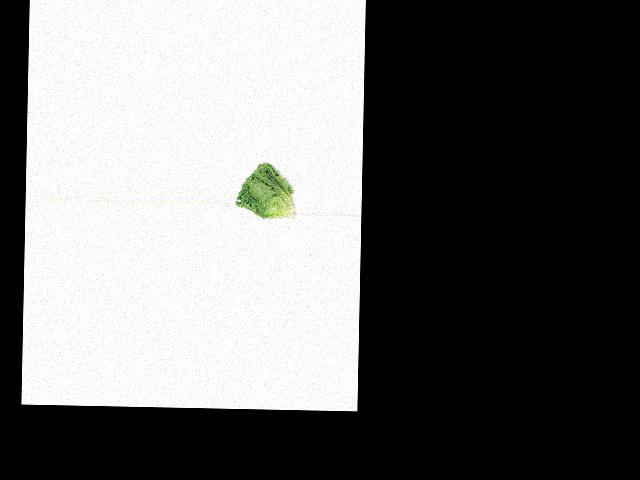lettuce: (235, 157, 298, 224)
